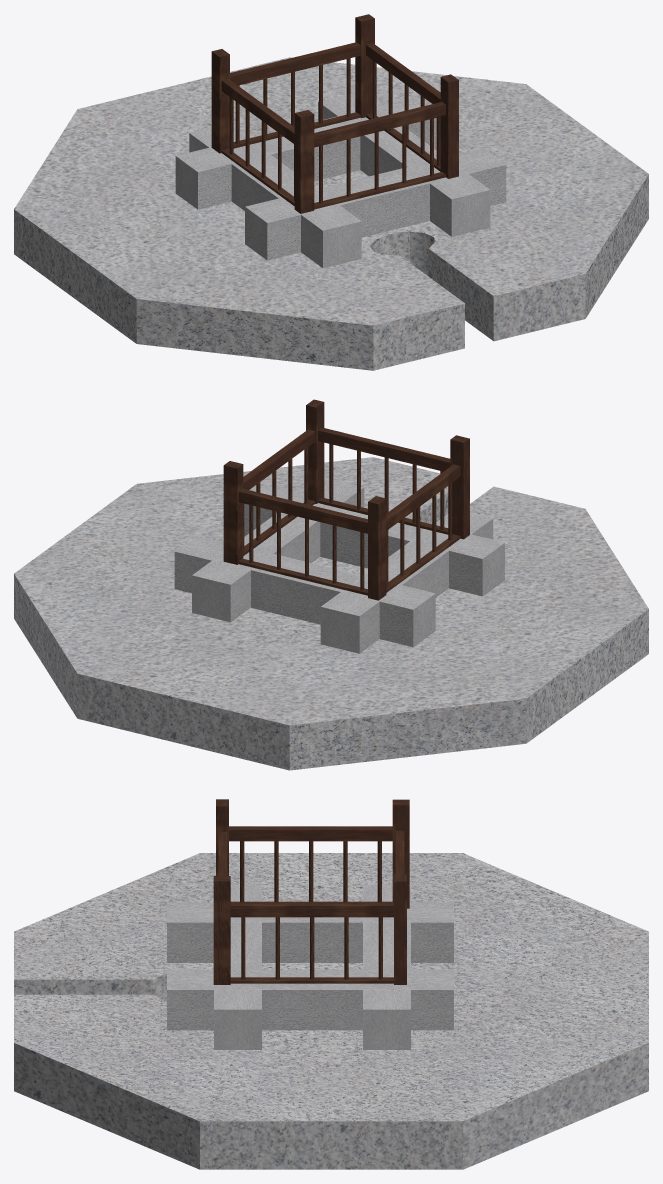
Rendered from SM_Oijeong.fbx.
The picture shows the model from 3 angles, top to bottom: view 1: azimuth 30°, elevation 25°; view 2: azimuth 150°, elevation 25°; view 3: azimuth 270°, elevation 25°; orthographic projection. The views are drawn at different scales.
Parts seen in each view (by area): view 1: SM_Oijeong; view 2: SM_Oijeong; view 3: SM_Oijeong.
Part boxes in pixels (x1=…): SM_Oijeong: x1=14, y1=14, x2=648, y2=370; SM_Oijeong: x1=14, y1=399, x2=648, y2=770; SM_Oijeong: x1=14, y1=799, x2=648, y2=1169.
Size of the model in its own units: 554 by 554 by 185.
2 materials, 2 textured.
